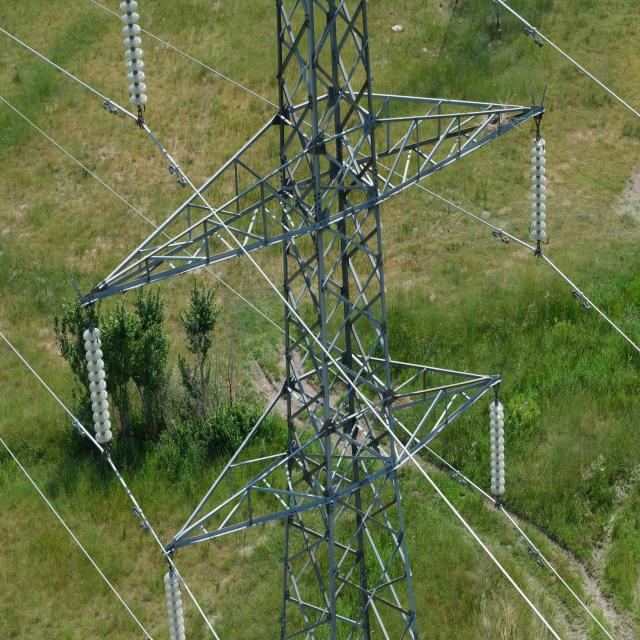direk: (279, 13, 422, 640)
